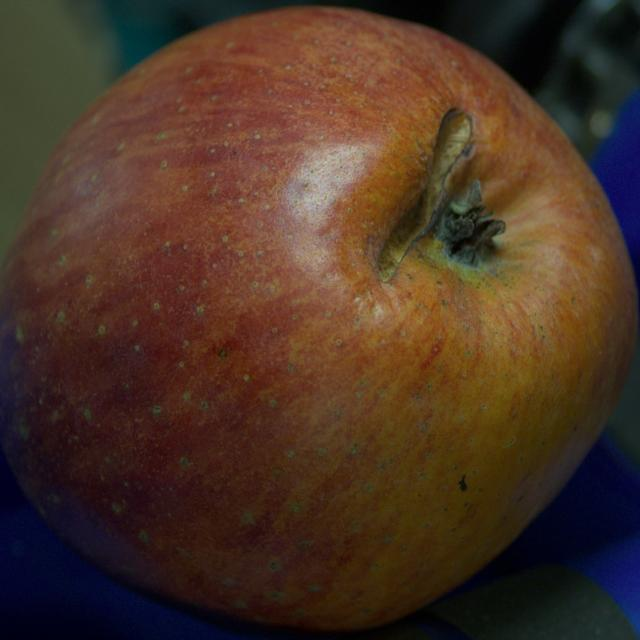apple: (0, 7, 638, 631)
scratch: (378, 110, 472, 281)
